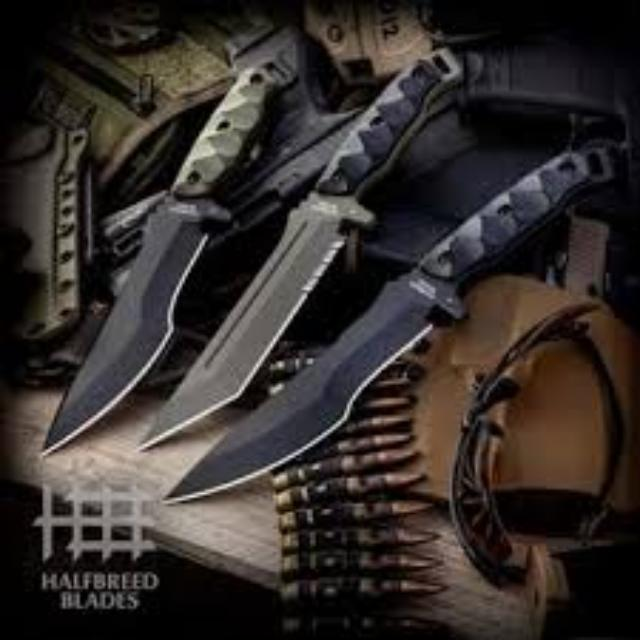Knife: (160, 131, 626, 503), (134, 42, 463, 452), (40, 26, 304, 454)
